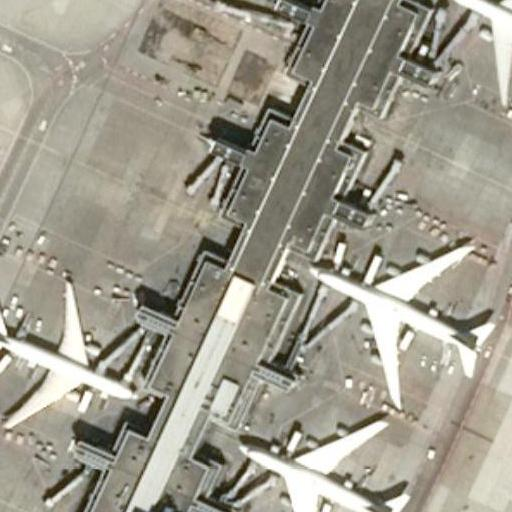Aircraft: (289, 232, 497, 412), (0, 262, 149, 441), (224, 402, 419, 512), (433, 0, 512, 110)
